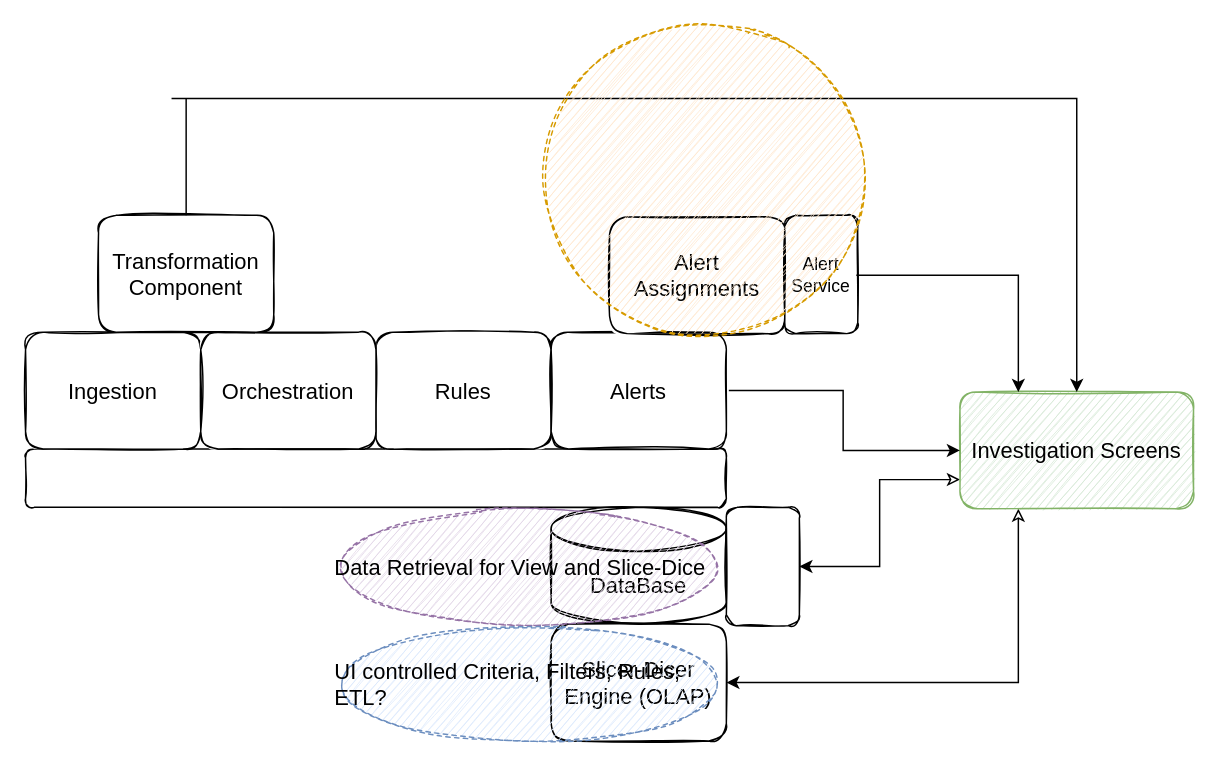
The diagram is 1219 pixels wide and 768 high, and some of its shapes have lost their labels. The shapes that lost their labels are listed below. From the top down, each one's centre as x and y in pixels, then its label:
(x=703, y=178): Outputs
(x=375, y=477): FC Runtime
(x=762, y=566): API
